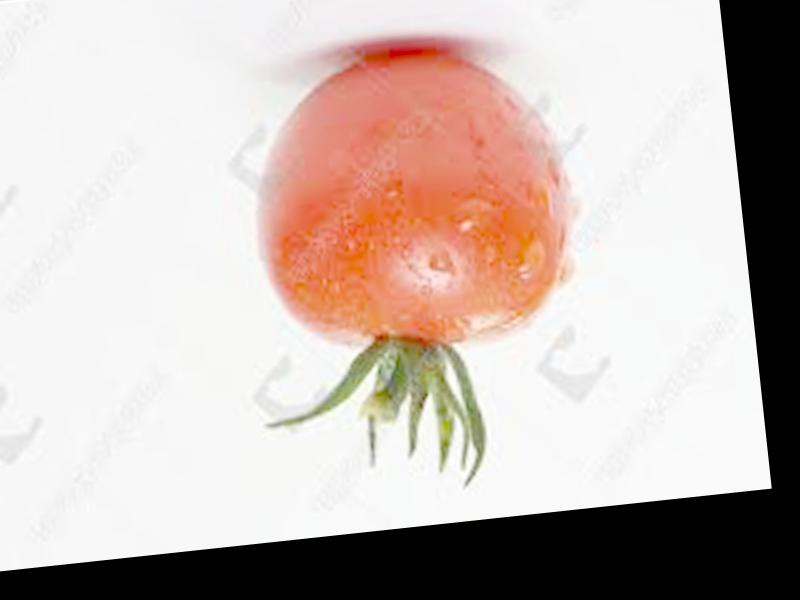Tomato: (239, 34, 576, 362)
